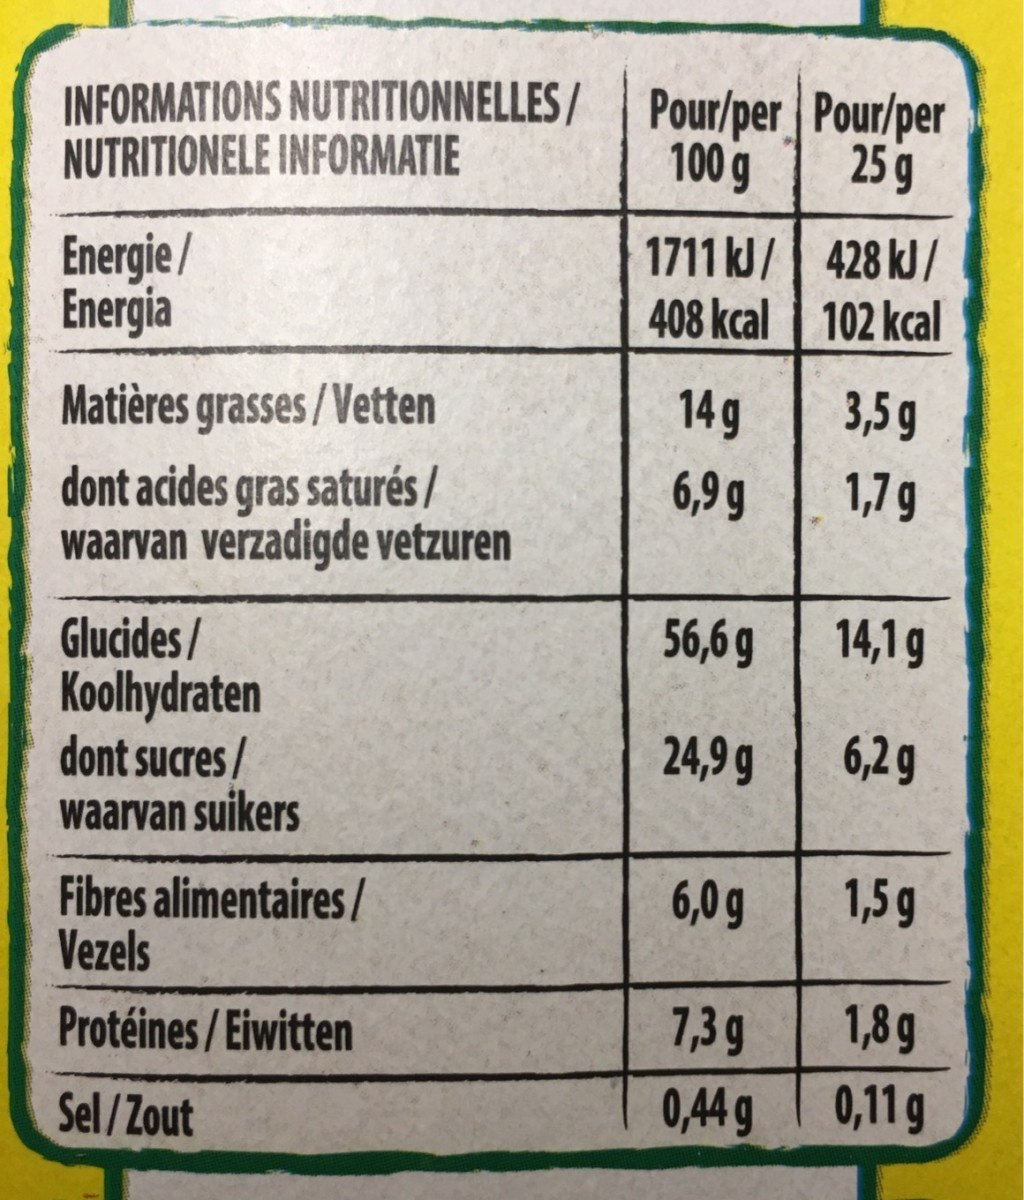column: (56, 72, 585, 1139), (642, 72, 785, 1135), (809, 74, 949, 1137)
table: (11, 26, 984, 1170)
